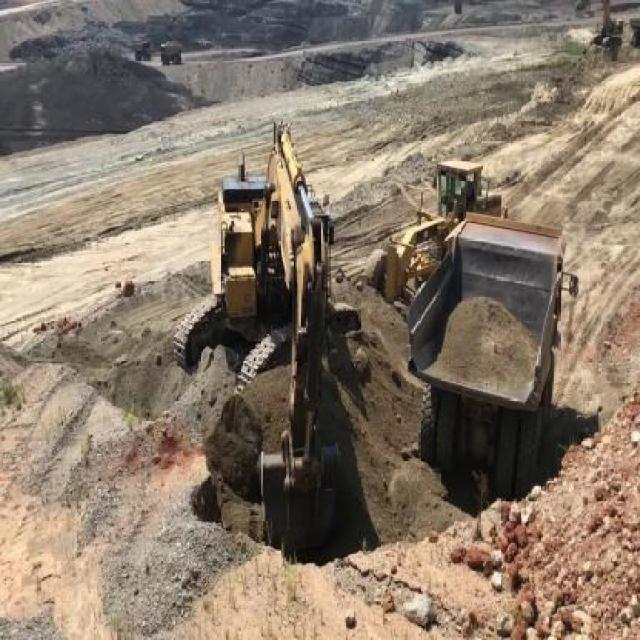Dump Truck: (406, 214, 577, 491)
Excavator: (172, 110, 363, 556)
